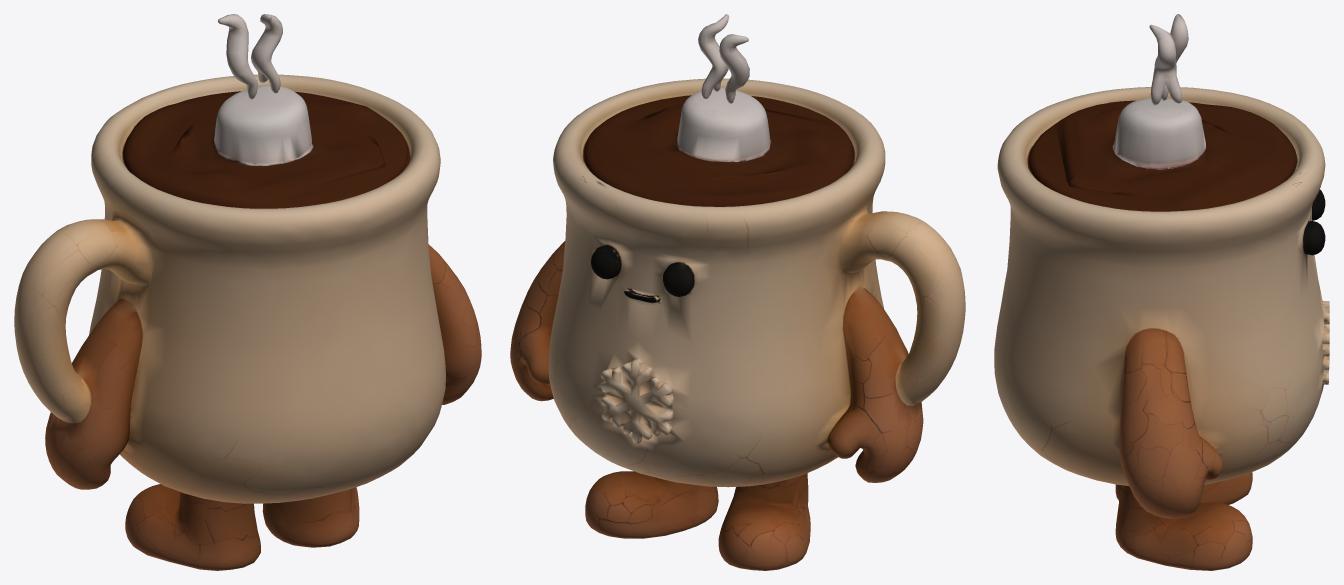
The model's file is cocoa_mug.glb.
The picture shows the model from 3 angles, left to right: view 1: azimuth 30°, elevation 25°; view 2: azimuth 150°, elevation 25°; view 3: azimuth 270°, elevation 25°; orthographic projection. The views are drawn at different scales.
Visible parts, largest first — view 1: material; view 2: material; view 3: material.
Boxes of the visible parts, bbox=[...] form: material: bbox=[14, 14, 481, 570]; material: bbox=[510, 14, 965, 570]; material: bbox=[994, 14, 1329, 570].
Size of the model in its own units: 1.72 by 1.9 by 1.16.
1 material, 1 textured.
